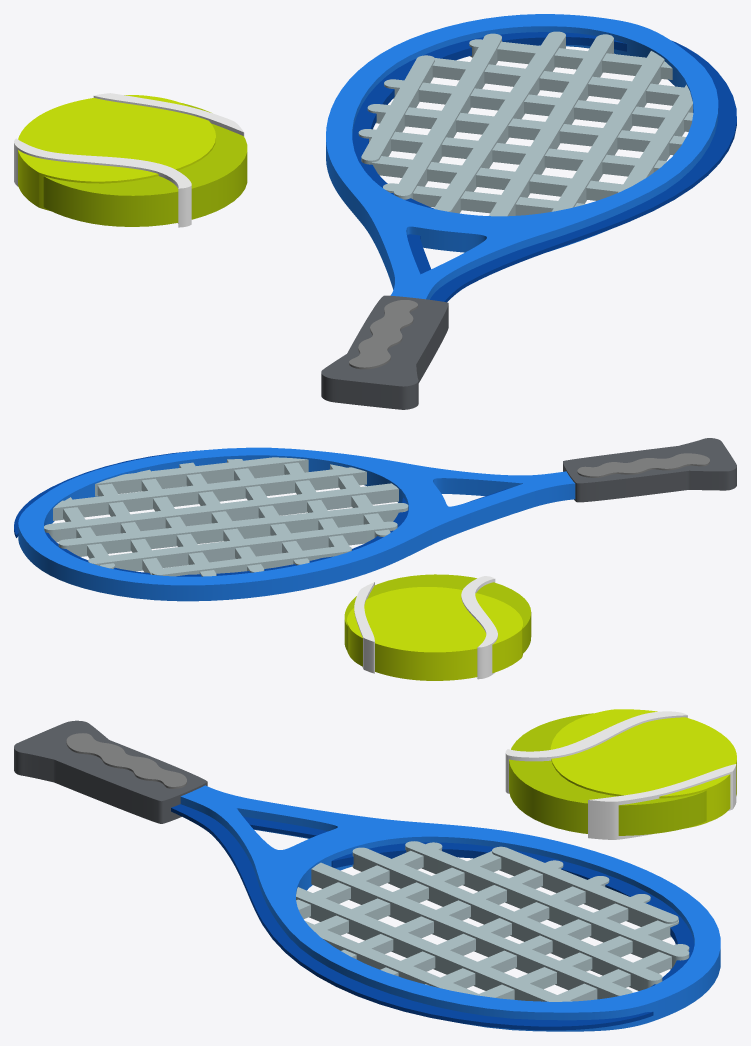
The model's file is emoji_u1f3be.glb.
The picture shows the model from 3 angles, top to bottom: view 1: azimuth 30°, elevation 25°; view 2: azimuth 150°, elevation 25°; view 3: azimuth 270°, elevation 25°; orthographic projection. The views are drawn at different scales.
Parts seen in each view (by area): view 1: emoji_u1f3be; view 2: emoji_u1f3be; view 3: emoji_u1f3be.
Part boxes in pixels (<box>): emoji_u1f3be: <box>14,14,736,409</box>; emoji_u1f3be: <box>14,438,736,680</box>; emoji_u1f3be: <box>14,709,736,1031</box>.
Size of the model in its own units: 0.0339 by 0.002 by 0.0343.
